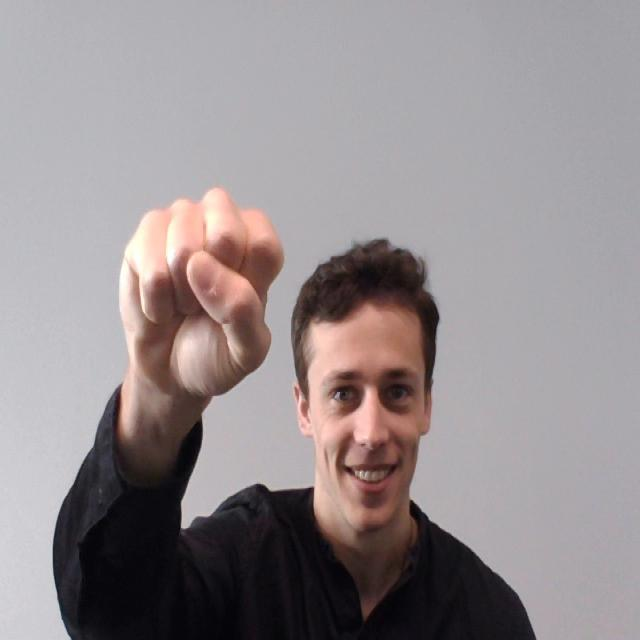stop: (102, 170, 288, 410)
